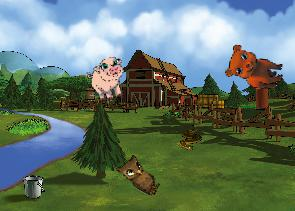bear: (224, 43, 286, 90)
owl: (113, 150, 167, 197)
pig: (84, 54, 132, 105)
